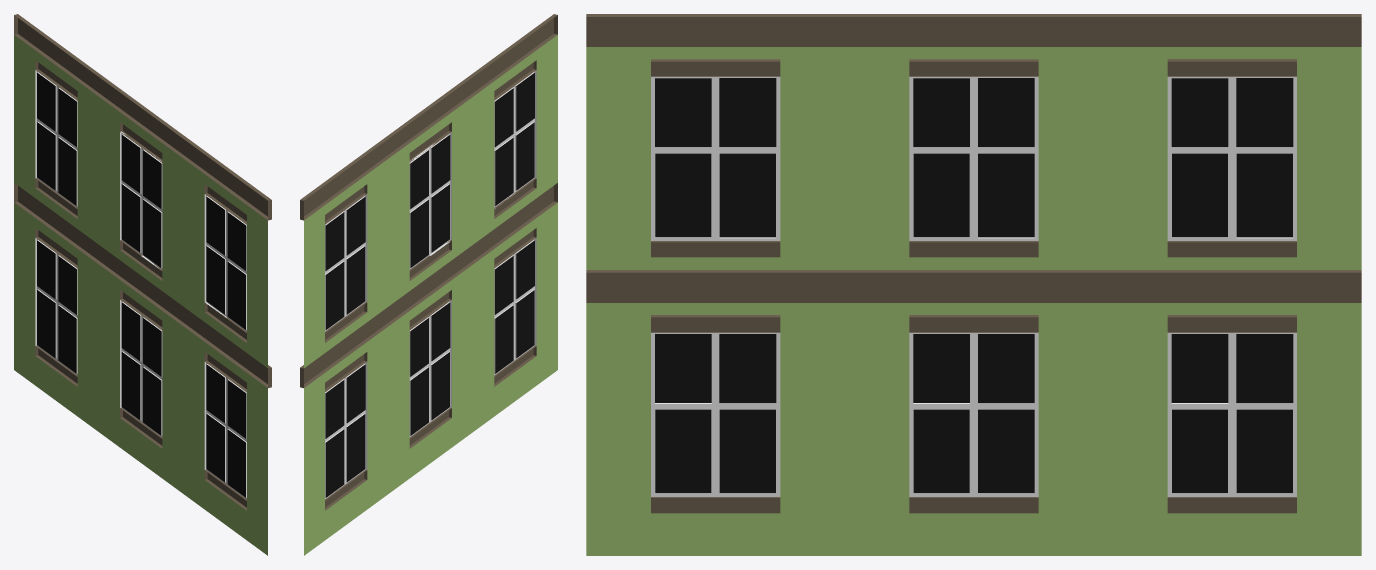
Rendered from House3.fbx.
3 views of the same model, side by side, from view 1: azimuth 30°, elevation 25°; view 2: azimuth 150°, elevation 25°; view 3: azimuth 270°, elevation 25° (orthographic). The views are drawn at different scales.
Visible parts, largest first — view 1: Plane; view 2: Plane; view 3: Plane.
Part boxes in pixels (box(x1,y1,x2,y2)): Plane: box(14, 14, 271, 555); Plane: box(300, 14, 557, 555); Plane: box(586, 14, 1361, 555).
Size of the model in its own units: 12.31 by 1080 by 1400.
